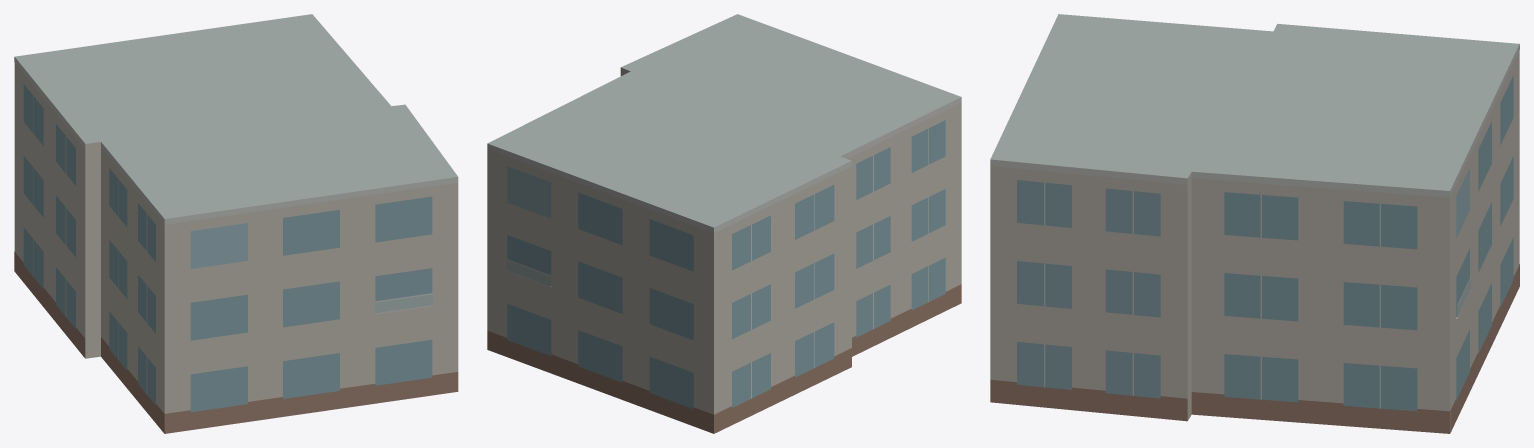
File: survey-upis-32911738.glb
The picture shows the model from 3 angles, left to right: view 1: azimuth 30°, elevation 25°; view 2: azimuth 150°, elevation 25°; view 3: azimuth 270°, elevation 25°; orthographic projection. The views are drawn at different scales.
Visible parts, largest first — view 1: survey-upis-32911738.tmp; view 2: survey-upis-32911738.tmp; view 3: survey-upis-32911738.tmp.
Part boxes in pixels (x1,y1,x2,y2): survey-upis-32911738.tmp: (14, 14, 458, 433); survey-upis-32911738.tmp: (487, 14, 961, 433); survey-upis-32911738.tmp: (990, 14, 1519, 433).
Size of the model in its own units: 14.31 by 9.15 by 18.09.
